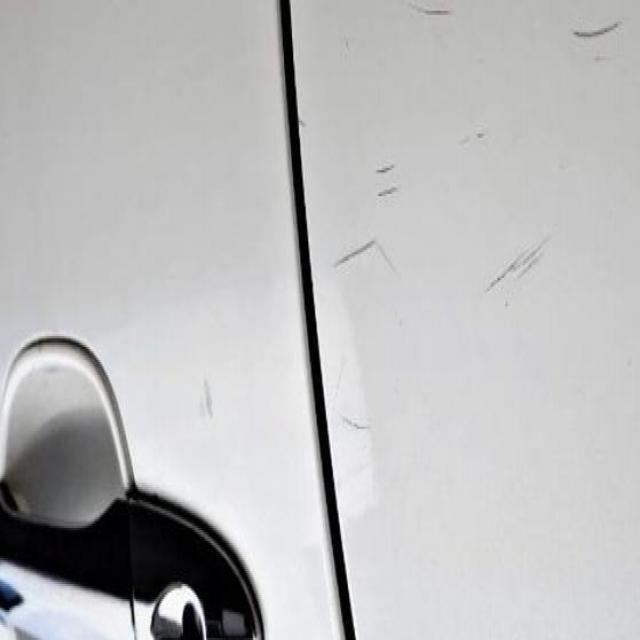scratch: (322, 150, 404, 284), (476, 224, 554, 304), (567, 5, 629, 42)
